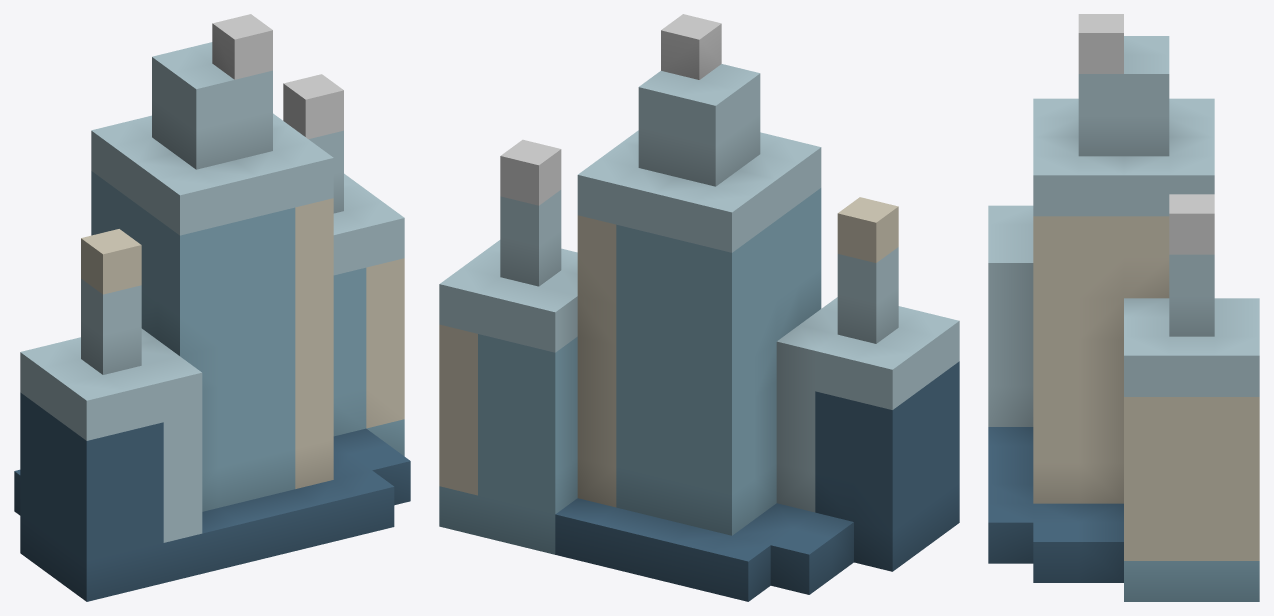
The model's file is diamond_raw.glb.
3 views of the same model, side by side, from view 1: azimuth 30°, elevation 25°; view 2: azimuth 150°, elevation 25°; view 3: azimuth 270°, elevation 25° (orthographic).
Parts seen in each view (by area): view 1: VoxelVisual; view 2: VoxelVisual; view 3: VoxelVisual.
Boxes of the visible parts, box(x1,y1,x2,y2) form: VoxelVisual: box(14, 14, 410, 601); VoxelVisual: box(439, 14, 959, 601); VoxelVisual: box(988, 14, 1259, 601).
Size of what is drawn, in the model's own units: 0.625 by 0.75 by 0.375.
